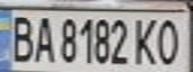1: (75, 15, 93, 64)
2: (109, 15, 133, 66)
8: (90, 15, 112, 65), (57, 15, 78, 64)
A: (30, 12, 57, 64)
B: (3, 11, 36, 63)
K: (130, 15, 160, 66)
O: (151, 15, 187, 66)
